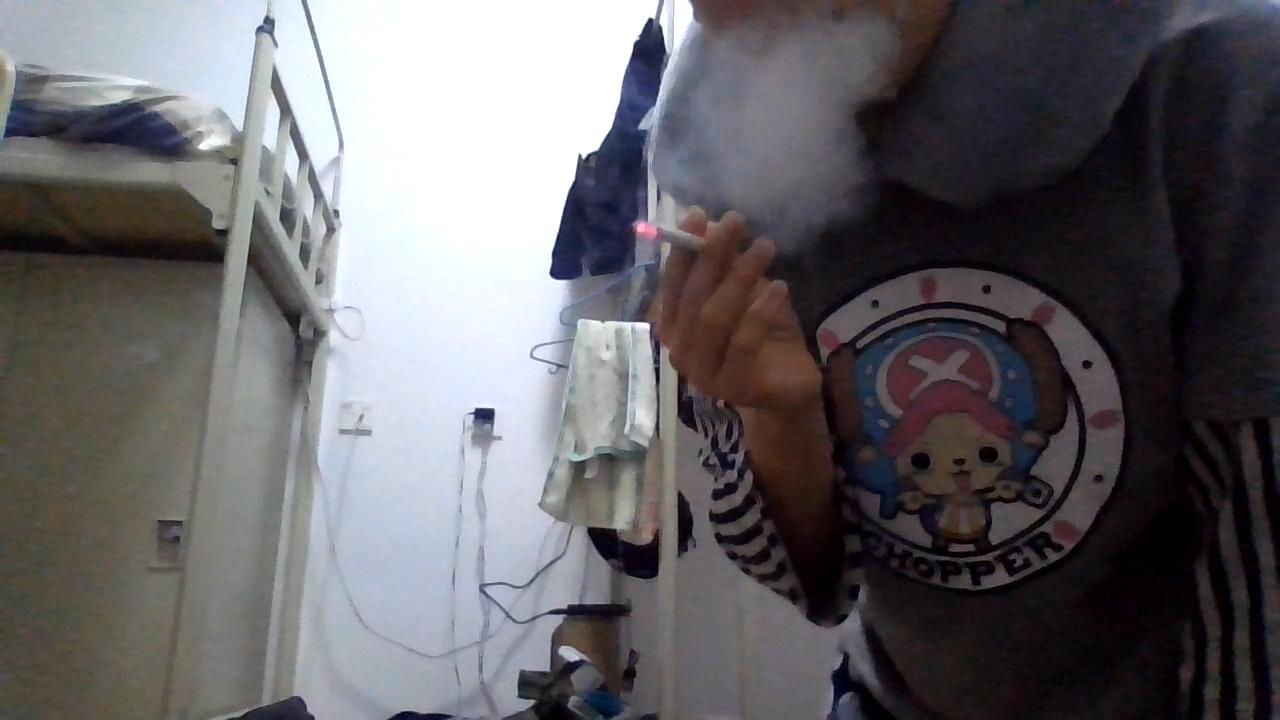yanwu: (655, 16, 906, 222)
